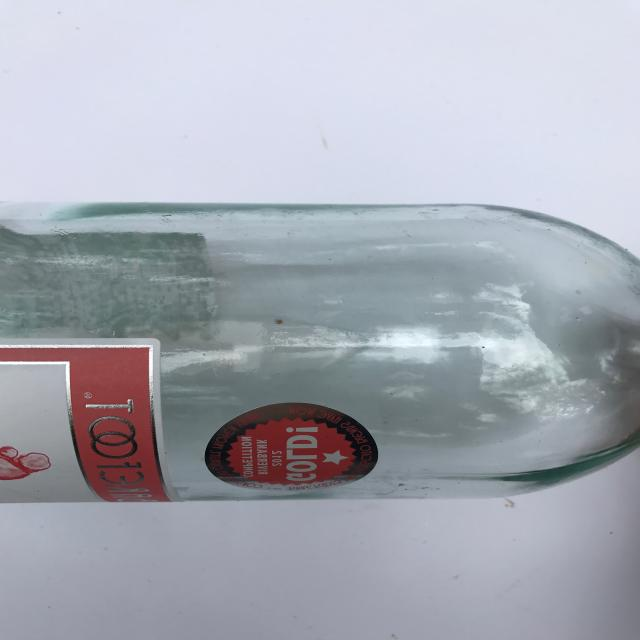glass: (0, 201, 640, 502)
